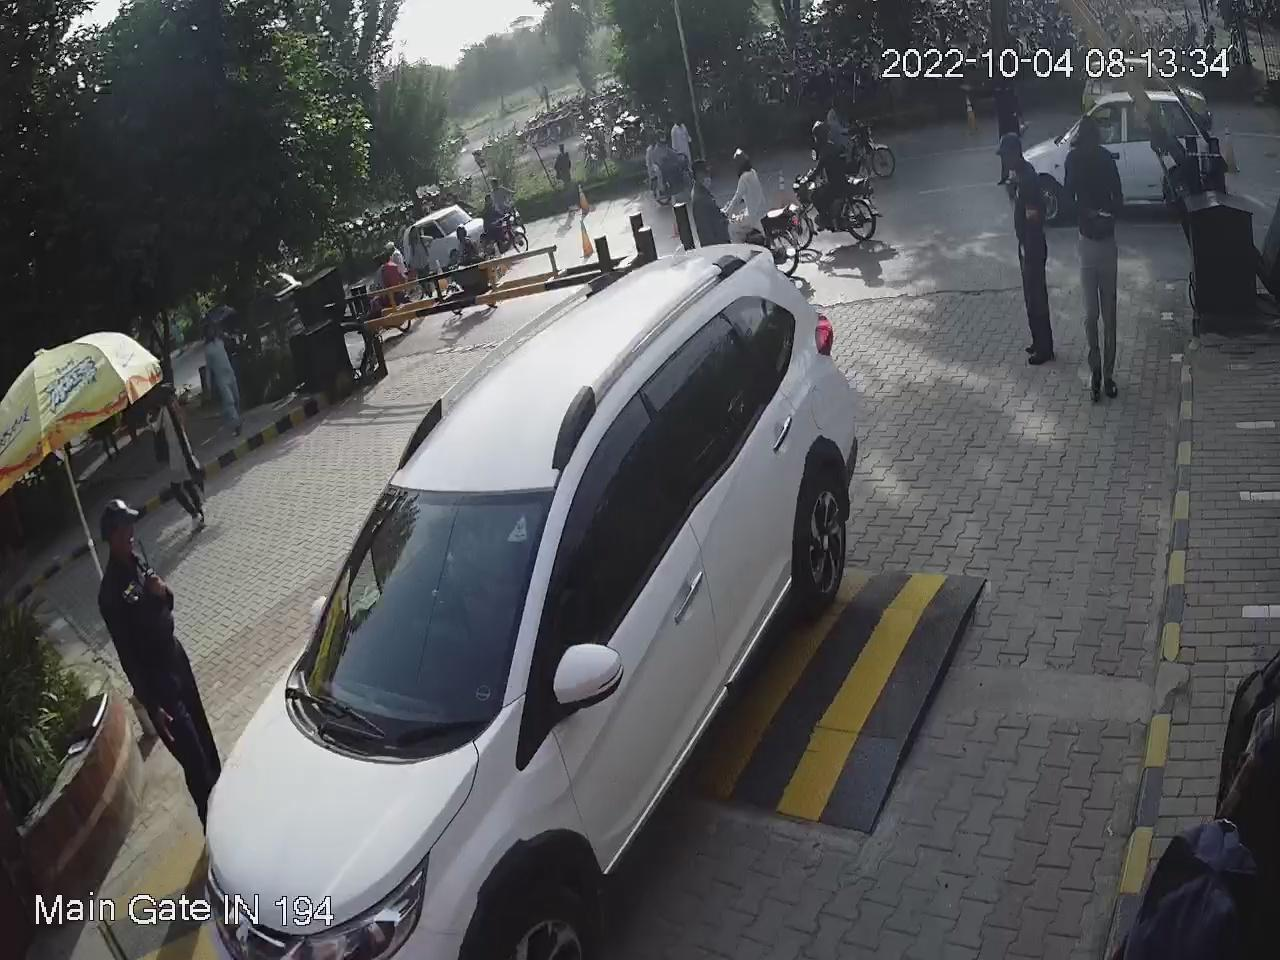windshield: (280, 480, 558, 737)
